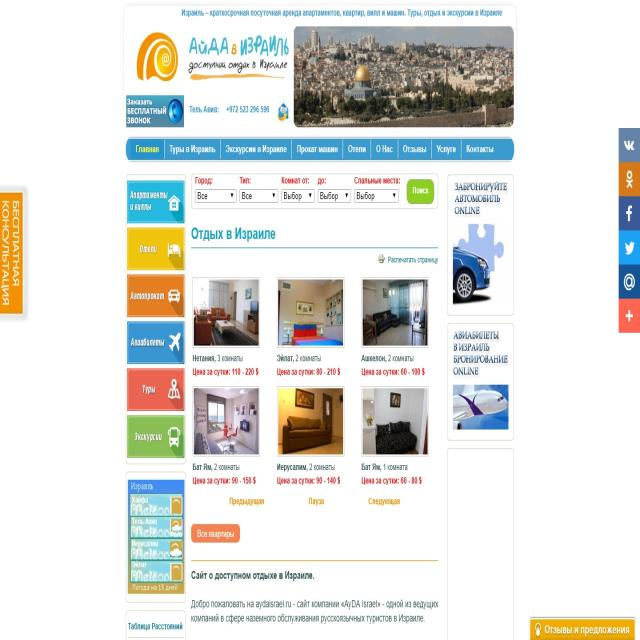button: (453, 180, 511, 309), (452, 330, 512, 437), (0, 188, 25, 318), (127, 274, 184, 318), (127, 180, 185, 222), (128, 228, 184, 270), (127, 418, 186, 457), (126, 372, 184, 410), (128, 324, 185, 362), (224, 140, 288, 161), (192, 523, 242, 543), (168, 140, 218, 160), (294, 138, 341, 158), (354, 189, 399, 205), (619, 298, 640, 332), (407, 178, 434, 204), (619, 232, 640, 264), (463, 138, 500, 156), (620, 128, 639, 161), (620, 267, 640, 298), (132, 138, 163, 158), (620, 164, 640, 194), (400, 140, 430, 160), (196, 188, 236, 203), (620, 199, 640, 227), (434, 137, 459, 159), (239, 190, 278, 204), (345, 140, 369, 158), (372, 141, 397, 158), (282, 190, 314, 203), (318, 191, 350, 202)
heading: (187, 220, 280, 247), (190, 568, 316, 583)
image: (294, 26, 515, 128), (132, 31, 288, 82), (128, 477, 186, 597), (277, 384, 344, 457), (192, 276, 260, 346), (363, 276, 428, 349), (362, 386, 427, 457), (278, 277, 343, 347), (455, 218, 504, 306), (194, 387, 256, 454), (454, 382, 509, 433), (126, 98, 185, 126)
label: (354, 176, 400, 187), (280, 176, 311, 185), (195, 176, 214, 186), (240, 174, 252, 186), (317, 176, 329, 187)
link: (388, 253, 440, 267)
text: (188, 597, 440, 626), (180, 7, 507, 20), (191, 352, 262, 380), (275, 463, 343, 489), (276, 352, 343, 378), (358, 354, 426, 378), (359, 462, 423, 487), (191, 464, 260, 486), (188, 101, 220, 119), (228, 104, 270, 117), (305, 493, 333, 512), (363, 496, 404, 508), (227, 498, 267, 506)
